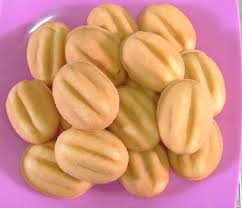kanomkai: (45, 119, 135, 187), (153, 73, 216, 159), (50, 57, 121, 133), (121, 25, 188, 96), (4, 72, 65, 147)
